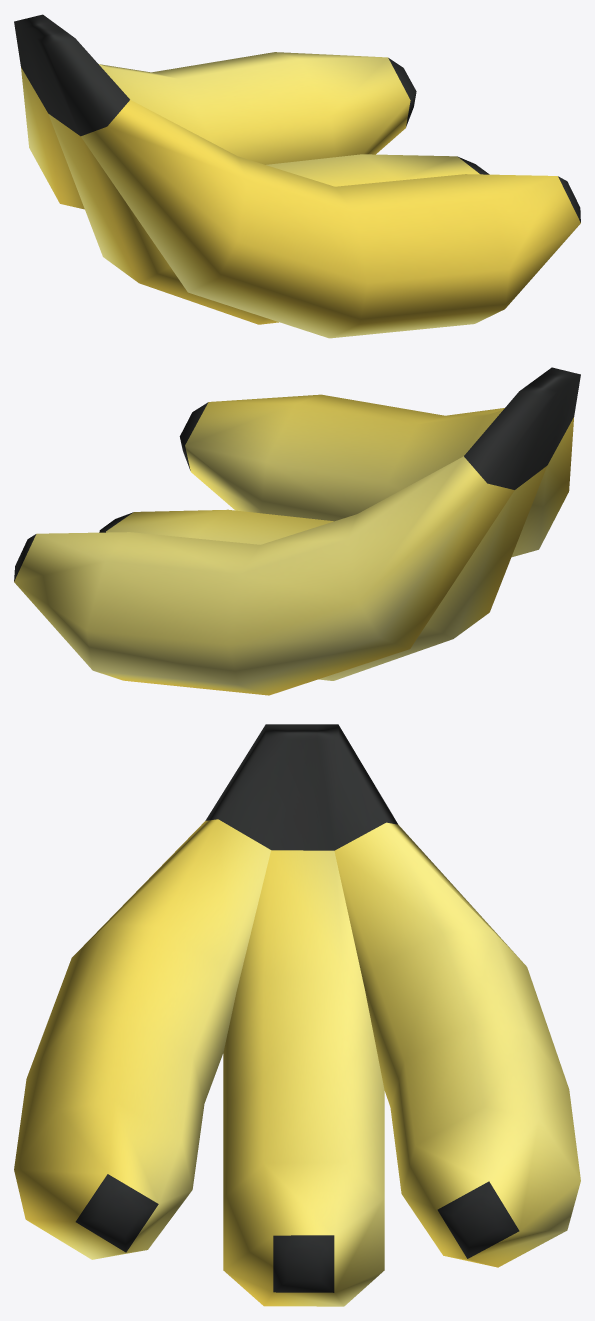
The model's file is banana_bunch.fbx.
3 renders of one model, top to bottom at view 1: azimuth 30°, elevation 25°; view 2: azimuth 150°, elevation 25°; view 3: azimuth 270°, elevation 25°, orthographic. The views are drawn at different scales.
Visible parts, largest first — view 1: banana_bunch; view 2: banana_bunch; view 3: banana_bunch.
Part boxes in pixels (x1,y1,x2,y2): banana_bunch: (14, 14, 580, 338); banana_bunch: (14, 367, 580, 695); banana_bunch: (14, 724, 580, 1306).
Size of the model in its own units: 40.49 by 29.46 by 38.74.
